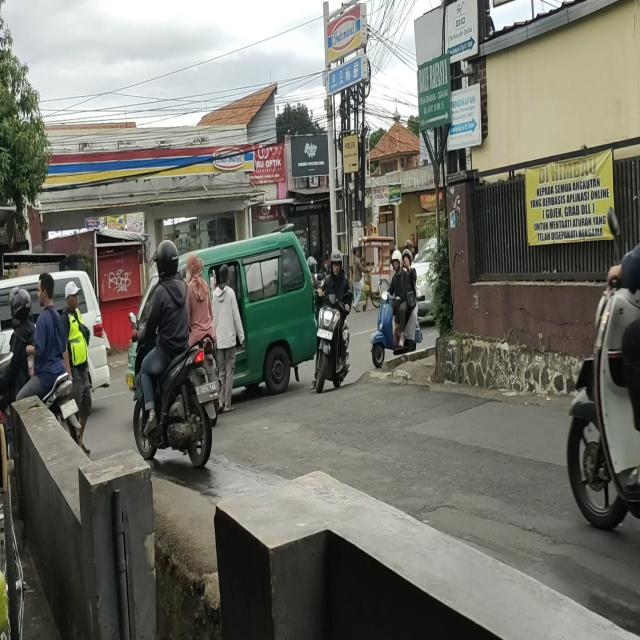helmet: (156, 237, 180, 280), (9, 286, 33, 322), (330, 245, 344, 278), (390, 250, 404, 274)
no-helmet: (38, 273, 55, 309), (186, 255, 204, 284), (403, 248, 413, 270)
